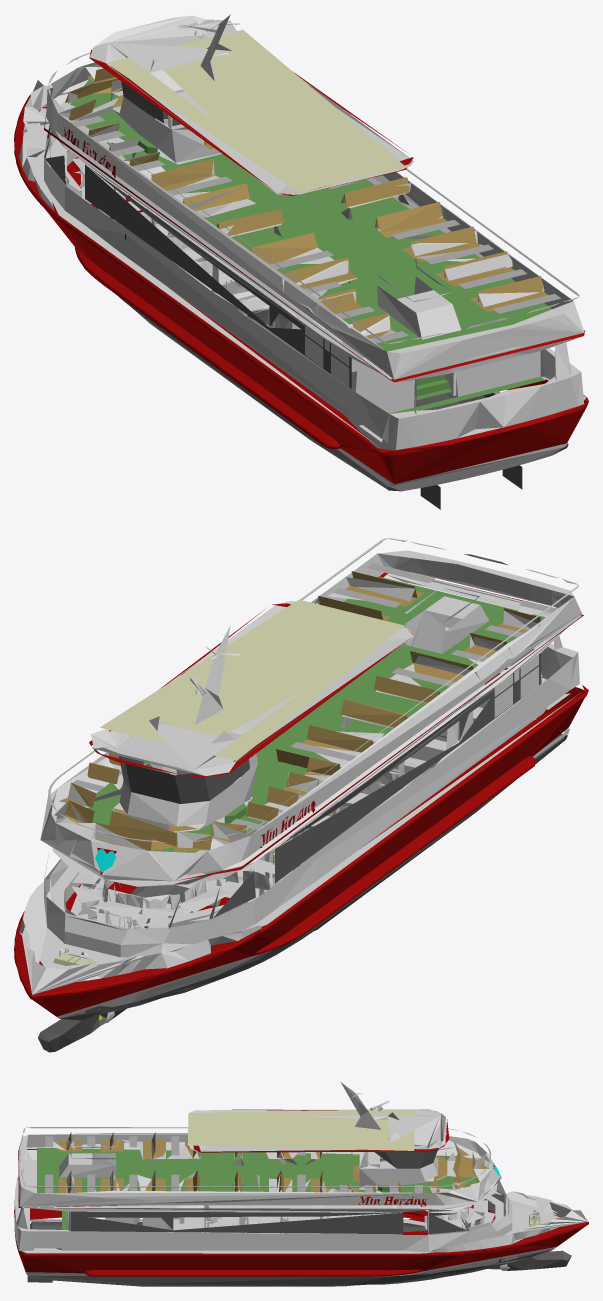
Rendered from boat_ferry.glb.
3 renders of one model, top to bottom at view 1: azimuth 30°, elevation 25°; view 2: azimuth 150°, elevation 25°; view 3: azimuth 270°, elevation 25°, orthographic. The views are drawn at different scales.
Visible parts, largest first — view 1: Material2 (×2), Material3 (×9); view 2: Material2 (×2), Material3 (×12); view 3: Material2 (×2), Material3 (×11).
Boxes of the visible parts, x1,y1,x2,y2 form: Material2 (×2): (14, 14, 588, 486); Material3 (×9): (40, 29, 586, 509); Material2 (×2): (14, 550, 588, 1018); Material3 (×12): (19, 538, 579, 1052); Material2 (×2): (14, 1082, 588, 1276); Material3 (×11): (20, 1106, 571, 1286).
Bounding box in the file's own units: 6.4 × 8.73 × 24.
